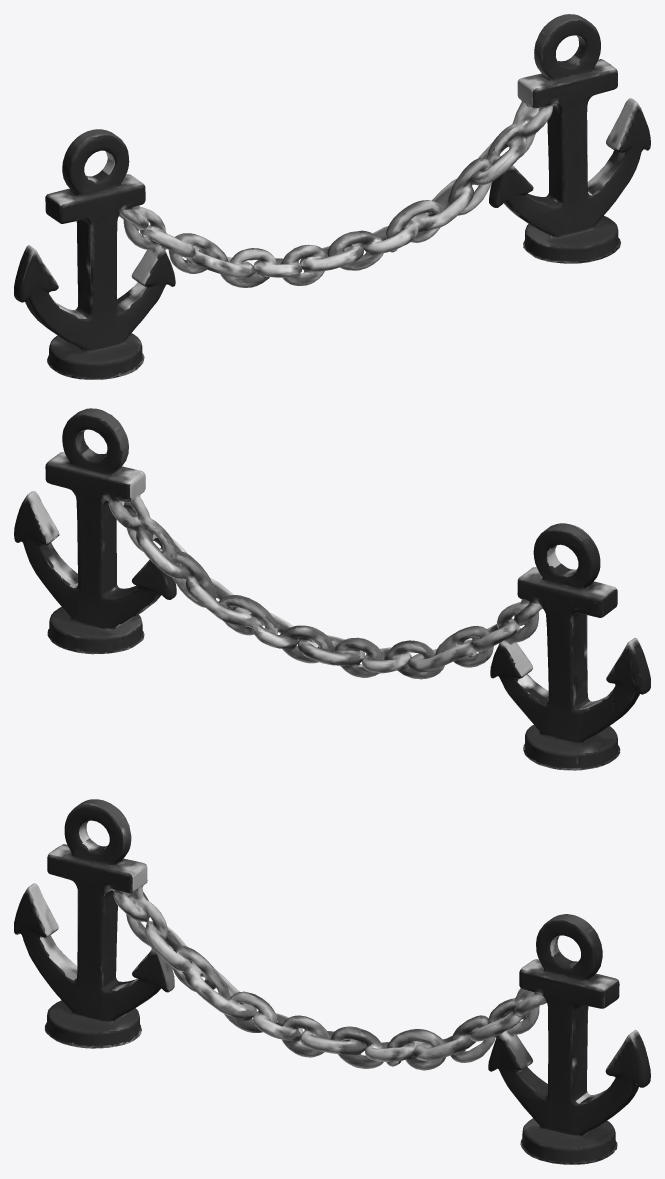
Rendered from anchor-chain.glb.
3 renders of one model, top to bottom at view 1: azimuth 30°, elevation 25°; view 2: azimuth 150°, elevation 25°; view 3: azimuth 330°, elevation 25°, orthographic.
Parts seen in each view (by area): view 1: demo_textured.obj; view 2: demo_textured.obj; view 3: demo_textured.obj.
Boxes of the visible parts, box(x1,y1,x2,y2) form: demo_textured.obj: box(14, 14, 650, 379); demo_textured.obj: box(14, 408, 650, 770); demo_textured.obj: box(14, 799, 650, 1164).
Size of the model in its own units: 1.99 by 0.6769 by 0.2573.
1 material, 1 textured.
